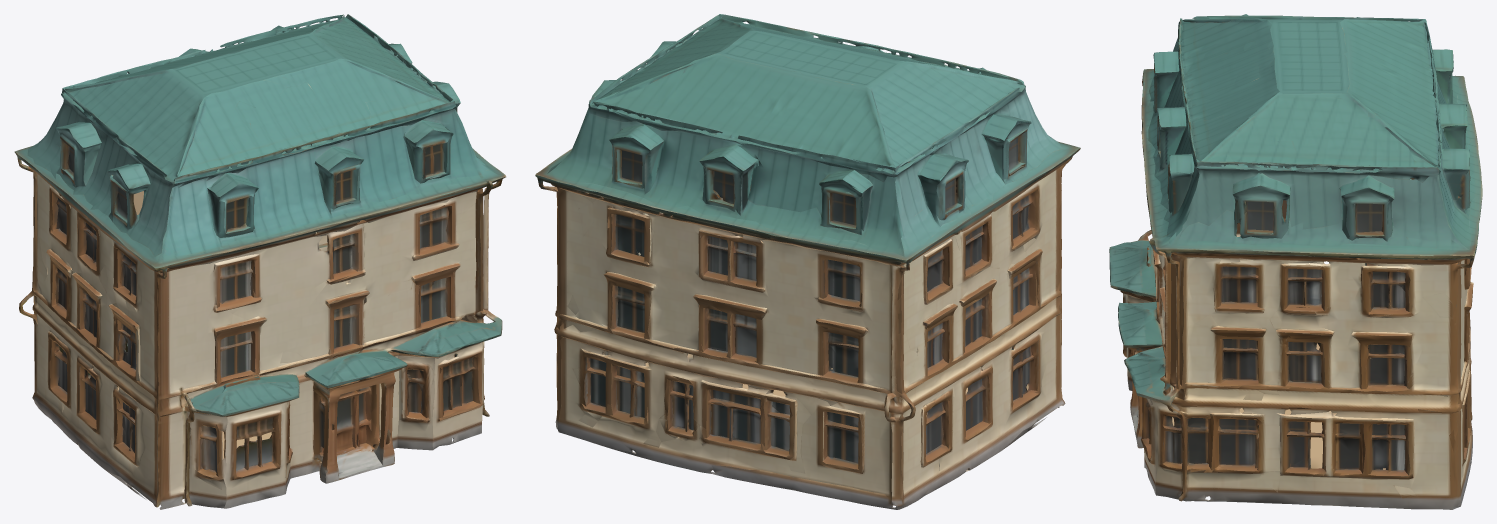
Rendered from unified--winter-manor.glb.
The picture shows the model from 3 angles, left to right: view 1: azimuth 30°, elevation 25°; view 2: azimuth 150°, elevation 25°; view 3: azimuth 270°, elevation 25°; orthographic projection. The views are drawn at different scales.
Visible parts, largest first — view 1: winter-manor-0; view 2: winter-manor-0; view 3: winter-manor-0.
Boxes of the visible parts, x1,y1,x2,y2 form: winter-manor-0: (14, 14, 506, 509); winter-manor-0: (535, 14, 1080, 509); winter-manor-0: (1109, 14, 1482, 509).
Size of the model in its own units: 0.6 by 0.5461 by 0.5058.
1 material, 1 textured.
